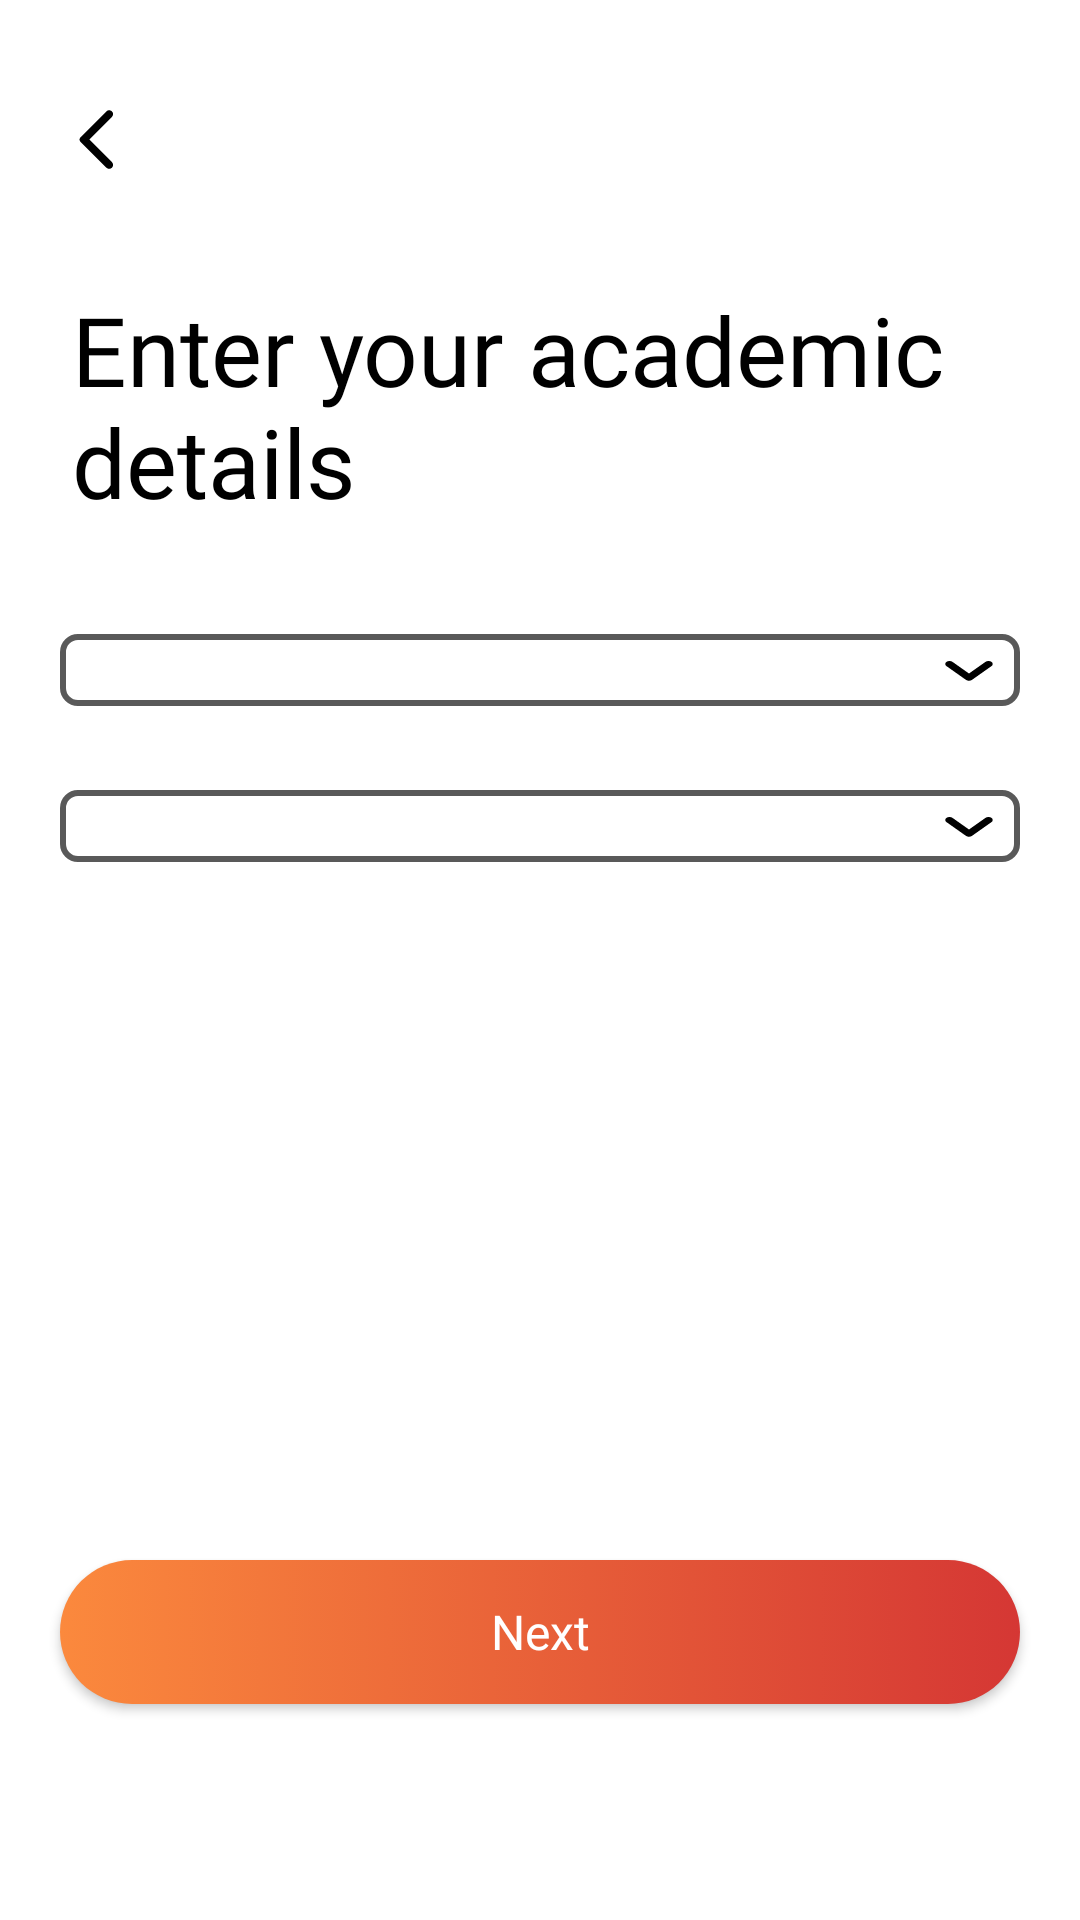

Point at icon controls on the screen. Image size 1080w x 1920h, points as (x,y).
arrow back: (96,139)
